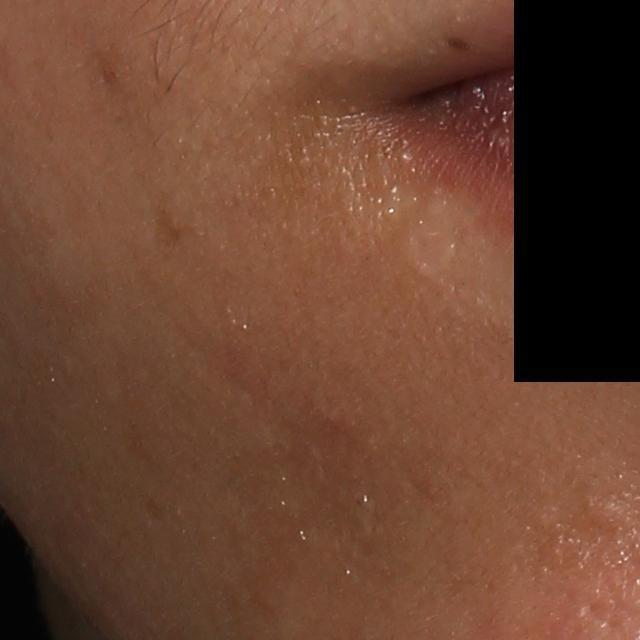atrophic_scar: (579, 600, 616, 630)
nevus: (445, 35, 472, 51)
